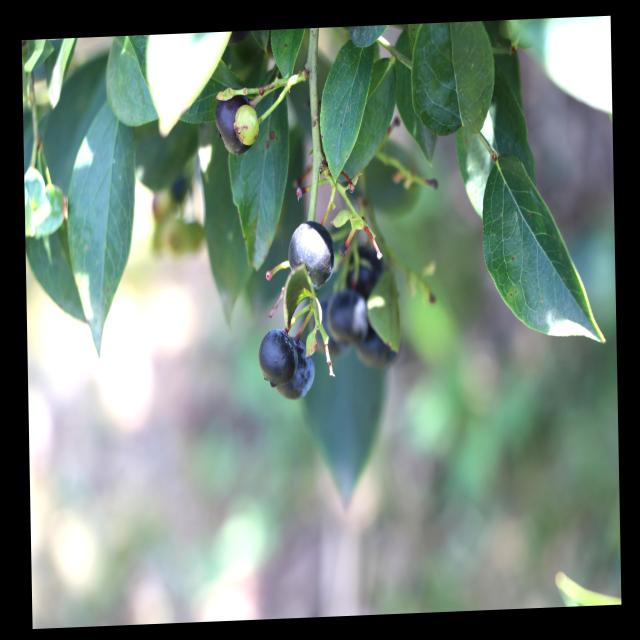blueberry: (284, 217, 334, 293), (211, 91, 261, 158), (277, 338, 319, 402), (258, 328, 300, 386), (324, 287, 366, 345), (340, 240, 384, 295), (368, 316, 410, 372)
blueberry-unripe: (233, 103, 264, 149)
